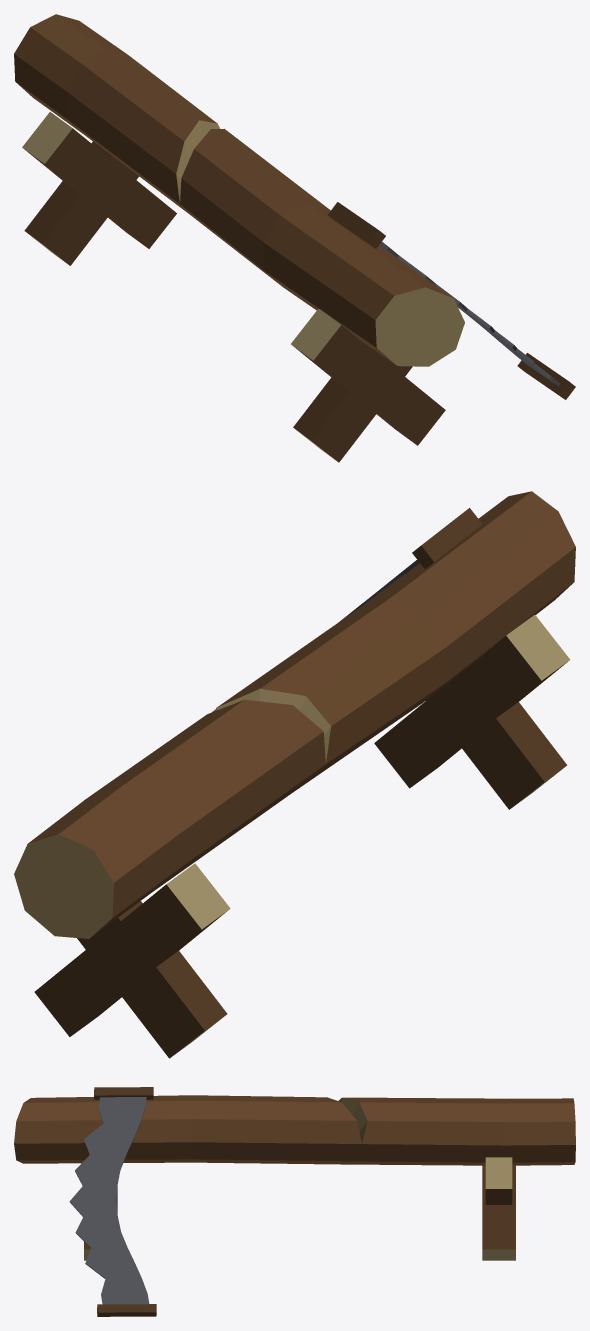
Rendered from quaternius-medieval-village-pack-sawmill-saw.glb.
3 renders of one model, top to bottom at view 1: azimuth 30°, elevation 25°; view 2: azimuth 150°, elevation 25°; view 3: azimuth 270°, elevation 25°, orthographic. The views are drawn at different scales.
Parts seen in each view (by area): view 1: Sawmill_saw; view 2: Sawmill_saw; view 3: Sawmill_saw.
Part boxes in pixels (x1,y1,x2,y2): Sawmill_saw: (14,14,575,462); Sawmill_saw: (14,491,575,1058); Sawmill_saw: (14,1087,575,1316).
Size of the model in its own units: 0.7052 by 0.5415 by 1.7.
